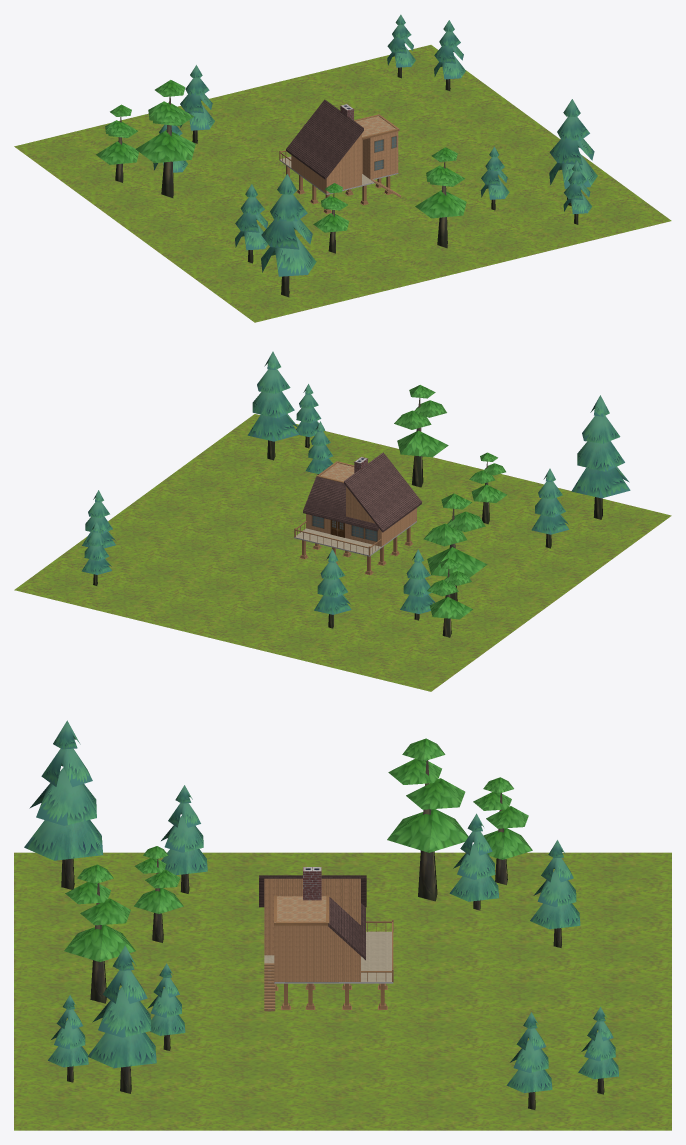
File: zhuzhai_xiaomuwu01_lod.FBX
The picture shows the model from 3 angles, top to bottom: view 1: azimuth 30°, elevation 25°; view 2: azimuth 150°, elevation 25°; view 3: azimuth 270°, elevation 25°; orthographic projection. The views are drawn at different scales.
Visible parts, largest first — view 1: caodi, shu, zhuzhai_xiaomuwu01_lod; view 2: caodi, shu, zhuzhai_xiaomuwu01_lod; view 3: caodi, shu, zhuzhai_xiaomuwu01_lod.
Part boxes in pixels (x1,y1,x2,y2): caodi: (14, 45, 671, 322); shu: (96, 14, 597, 297); zhuzhai_xiaomuwu01_lod: (279, 99, 401, 213); caodi: (14, 414, 671, 691); shu: (81, 351, 630, 637); zhuzhai_xiaomuwu01_lod: (294, 452, 421, 575); caodi: (14, 852, 671, 1130); shu: (24, 720, 618, 1109); zhuzhai_xiaomuwu01_lod: (259, 867, 393, 1011).
Bounding box in the file's own units: 6400 × 1902 × 6400.
